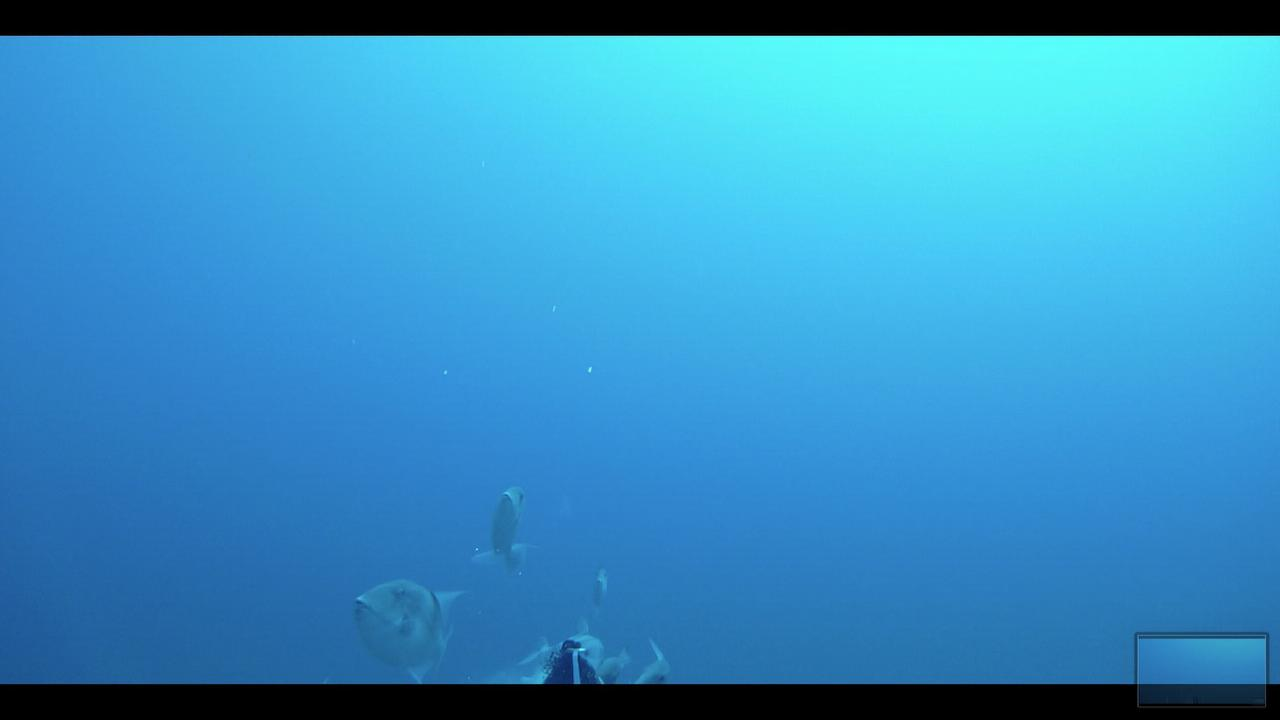balistes: (340, 575, 474, 683), (474, 476, 542, 582), (613, 641, 679, 683), (577, 555, 618, 619)
